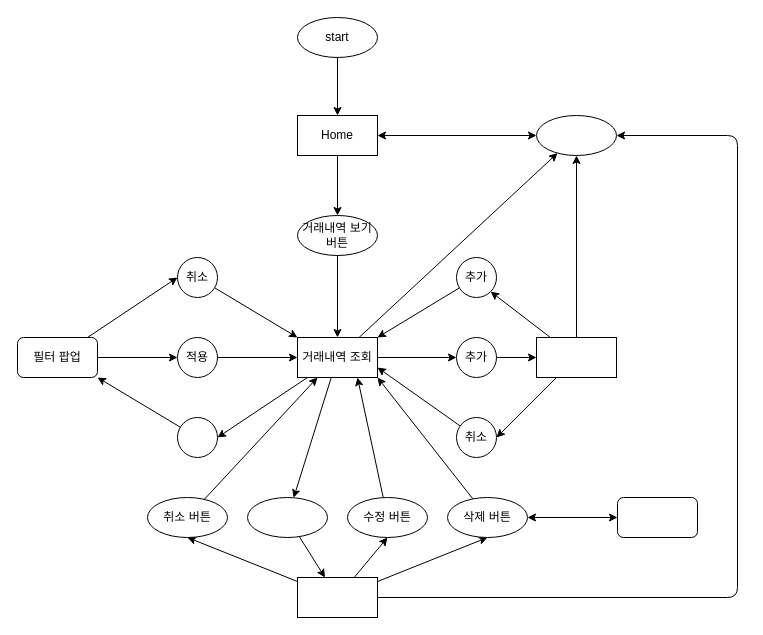
Image size: 763x635. Some labels were removed from this diagram. The shapes that lost their labels are listed below. From the top down, each one's centre as x and y in pixels, then its label:
At point (576, 135): "홈버튼".
At point (576, 357): "추가 페이지".
At point (197, 437): "필터 버튼".
At point (287, 517): "개별 거래내역 클릭".
At point (657, 517): "확인 팝업".
At point (337, 597): "수정 페이지".
